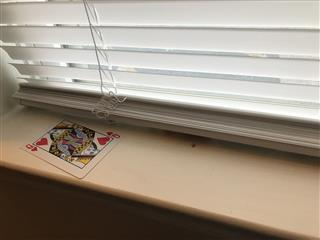QueenOfHearts: (19, 115, 123, 178)
